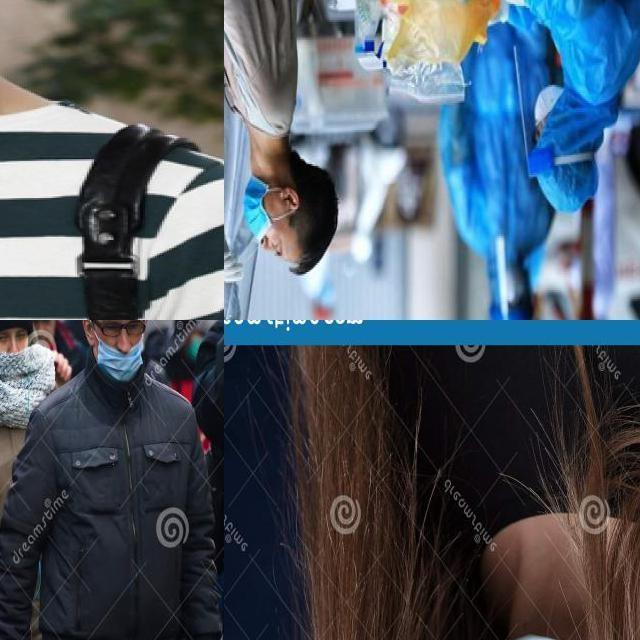hairnet: (243, 175, 274, 261), (96, 331, 143, 377)
